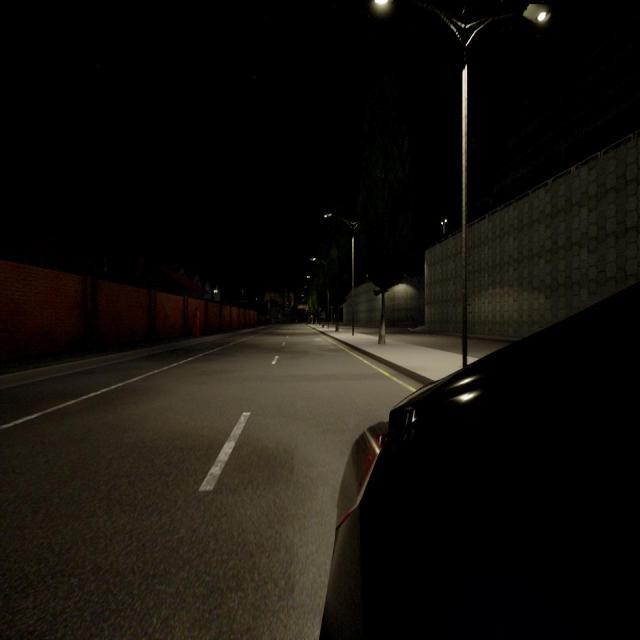Pedestrian: (192, 307, 200, 337)
Vehicle: (324, 288, 640, 639)
